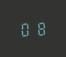eight: (33, 19, 46, 36)
zero: (19, 20, 32, 37)
